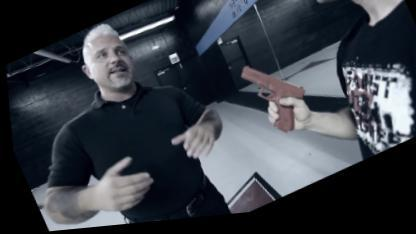pistol: (233, 50, 316, 148)
